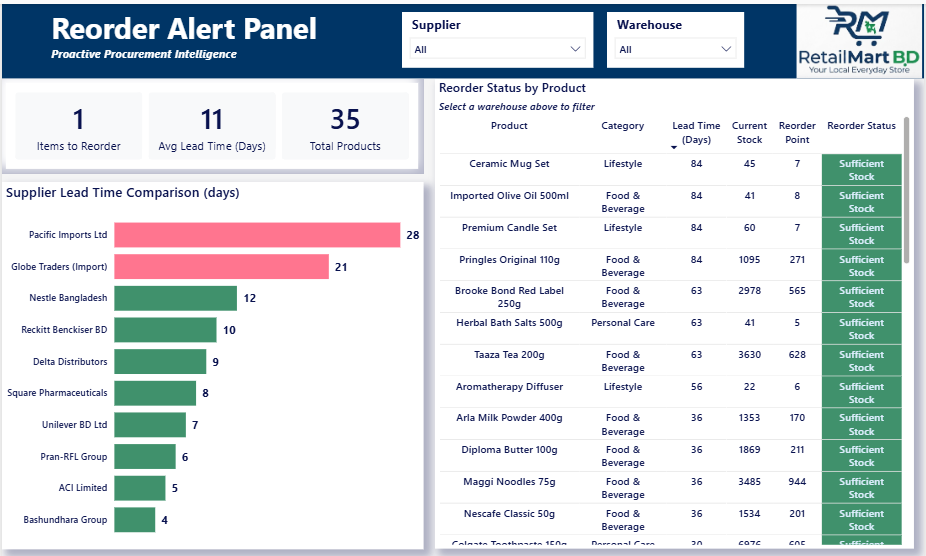

The dashboard page shown, as its layout file describes it:
{"tool":"powerbi","page":{"name":"Reorder Alert Panel","canvas":[1190,720],"ordinal":3},"visuals":[{"type":"textbox","box":[0,0,1279.8,96.4],"z":0},{"type":"image","box":[1023.2,0,165.8,96.4],"z":1000},{"type":"clusteredBarChart","title":"Supplier Lead Time Comparison (days)","fields":{"Category":["dim_supplier.supplier_name"],"Y":["Avg(dim_supplier.lead_time_days)"]},"box":[0,229.9,544,473.9],"z":2000},{"type":"cardVisual","fields":{"Data":["_Measures.Reorder Alert Count","_Measures.Avg Lead Time","_Measures.Total Products Monitored"]},"box":[0,96.7,544,122],"z":4000},{"type":"tableEx","title":"Reorder Status by Product","fields":{"Values":["vw_reorder_analysis.product_name","vw_reorder_analysis.category","Sum(vw_reorder_analysis.lead_time_days)","Sum(vw_reorder_analysis.current_stock)","Sum(vw_reorder_analysis.reorder_point)","vw_reorder_analysis.reorder_status"]},"box":[558.7,96.8,618.1,606.5],"z":4001},{"type":"slicer","fields":{"Values":["dim_warehouse.warehouse_name"]},"box":[780.6,10.3,176.6,71.5],"z":4002},{"type":"slicer","fields":{"Values":["vw_reorder_analysis.supplier_name"]},"box":[516.1,10.3,246.7,71.5],"z":4003}]}

Visuals, with their boxes in screenshot pixels (x1, y1, x2, y2), scaled from the page's 1190x720 canvas onto the 926x556 screenshot:
textbox: [x1=0, y1=0, x2=925, y2=74]
image: [x1=796, y1=0, x2=925, y2=74]
"Supplier Lead Time Comparison (days)" clusteredBarChart: [x1=0, y1=178, x2=423, y2=543]
cardVisual - _Measures.Reorder Alert Count x _Measures.Avg Lead Time: [x1=0, y1=75, x2=423, y2=169]
"Reorder Status by Product" tableEx: [x1=435, y1=75, x2=916, y2=543]
slicer - dim_warehouse.warehouse_name: [x1=607, y1=8, x2=745, y2=63]
slicer - vw_reorder_analysis.supplier_name: [x1=402, y1=8, x2=594, y2=63]
